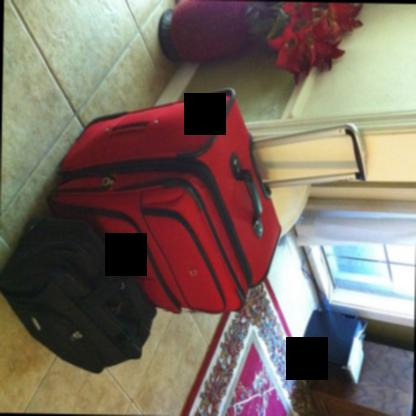suitcase: (45, 91, 282, 315), (0, 214, 159, 376)
